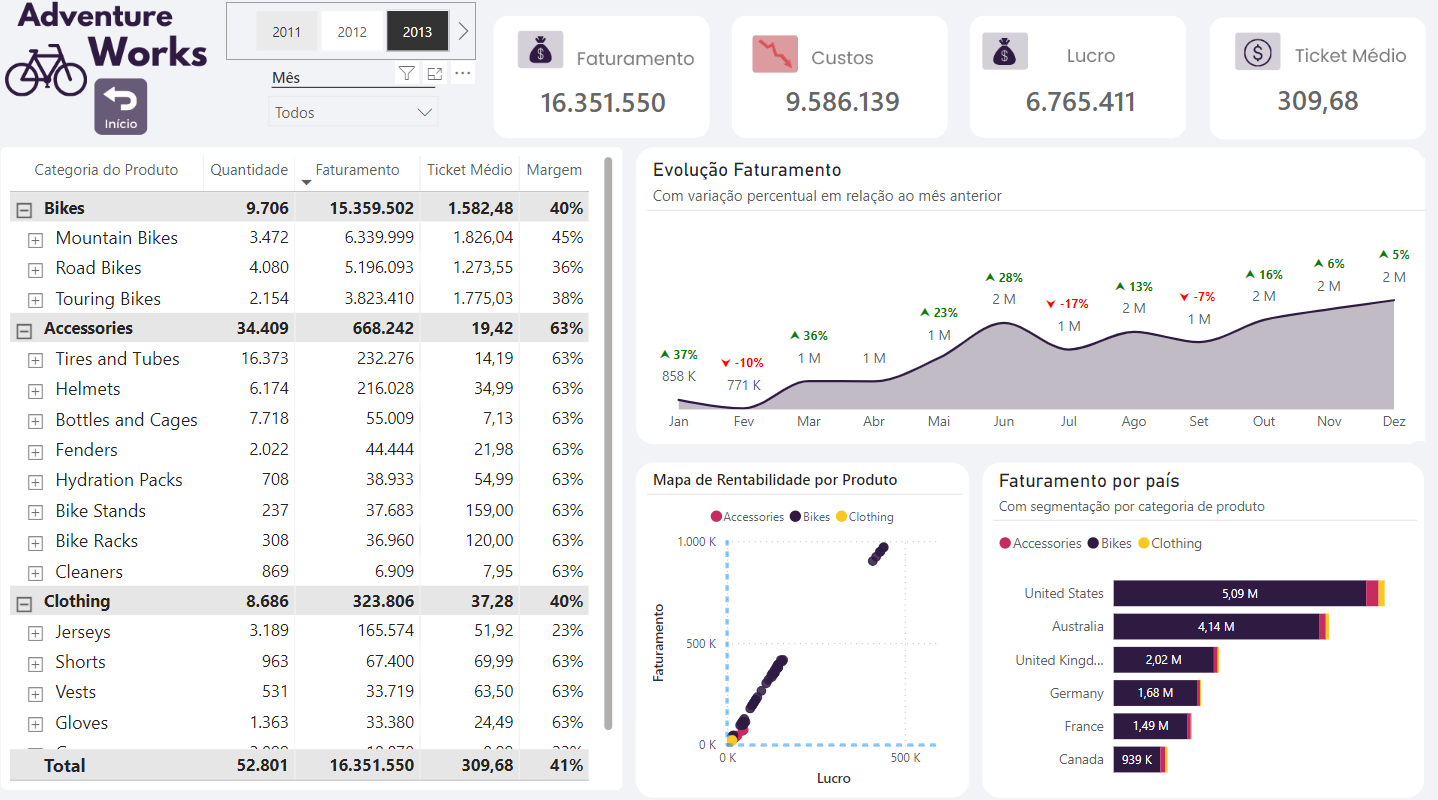

This screenshot's page, from the dashboard's own definition file:
{"tool":"powerbi","page":{"name":"Produtos","canvas":[1280,720],"ordinal":2},"visuals":[{"type":"card","fields":{"Values":["Tabela.03 Lucro Bruto"]},"box":[868.5,79.3,185.6,32.6],"z":0},{"type":"card","fields":{"Values":["Tabela.02 Custo Total"]},"box":[653.1,75.2,194.4,39.7],"z":1000},{"type":"card","fields":{"Values":["Tabela.15 Ticket Médio"]},"box":[1084.6,73.1,175.5,42.8],"z":2000},{"type":"card","fields":{"Values":["Tabela.01 Receita Total"]},"box":[443,74.2,190.2,41.8],"z":3000},{"type":"pivotTable","fields":{"Values":["Tabela.13 Quantidade Total de Produtos","Tabela.01 Receita Total","Tabela.15 Ticket Médio","Tabela.04 Margem Bruta"],"Rows":["DimProductCategory.EnglishProductCategoryName","DimProductSubcategory.EnglishProductSubcategoryName","DimProduct.EnglishProductName"]},"box":[4,135.1,551.3,570.5],"z":4000},{"type":"slicer","title":"Ano","fields":{"Values":["dim_calendario.Ano"]},"box":[203.6,6,221.7,51.4],"z":5000},{"type":"lineChart","title":"Evolução Faturamento","fields":{"Category":["dim_calendario.Mês abrev"],"Y":["Tabela.01 Receita Dinâmica","Tabela.01 Receita com Unidade"]},"box":[577.5,144.1,690.4,251],"z":6000},{"type":"scatterChart","title":"Mapa de Rentabilidade por Produto","fields":{"Series":["DimProductCategory.EnglishProductCategoryName"],"Category":["DimProduct.EnglishProductName"],"X":["Tabela.03 Lucro Bruto Dinamico"],"Y":["Tabela.01 Receita Dinâmica"]},"box":[577.2,420.6,279,285.4],"z":7000},{"type":"slicer","fields":{"Values":["dim_calendario.Nome do Mês"]},"box":[231.8,59.5,171.3,67.5],"z":8000},{"type":"actionButton","box":[85.1,70.9,52.3,55],"z":9000},{"type":"barChart","title":"Faturamento por país","fields":{"Category":["DimSalesTerritory.SalesTerritoryCountry"],"Series":["DimProductCategory.EnglishProductCategoryName"],"Y":["Tabela.01 Receita Dinâmica"]},"box":[884,420.3,376,285.5],"z":11000}]}

Visuals, with their boxes in screenshot pixels (x1, y1, x2, y2), scaled from the page's 1280x720 canvas onto the 1438x800 screenshot:
card - Tabela.03 Lucro Bruto: bbox=[976, 88, 1184, 124]
card - Tabela.02 Custo Total: bbox=[734, 84, 952, 128]
card - Tabela.15 Ticket Médio: bbox=[1218, 81, 1416, 129]
card - Tabela.01 Receita Total: bbox=[498, 82, 711, 129]
pivotTable - Tabela.13 Quantidade Total de Produtos x Tabela.01 Receita Total: bbox=[4, 150, 624, 784]
"Ano" slicer: bbox=[229, 7, 478, 64]
"Evolução Faturamento" lineChart: bbox=[649, 160, 1424, 439]
"Mapa de Rentabilidade por Produto" scatterChart: bbox=[648, 467, 962, 784]
slicer - dim_calendario.Nome do Mês: bbox=[260, 66, 453, 141]
actionButton: bbox=[96, 79, 154, 140]
"Faturamento por país" barChart: bbox=[993, 467, 1416, 784]
